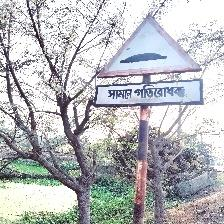Speed-breaker: (95, 14, 205, 109)
